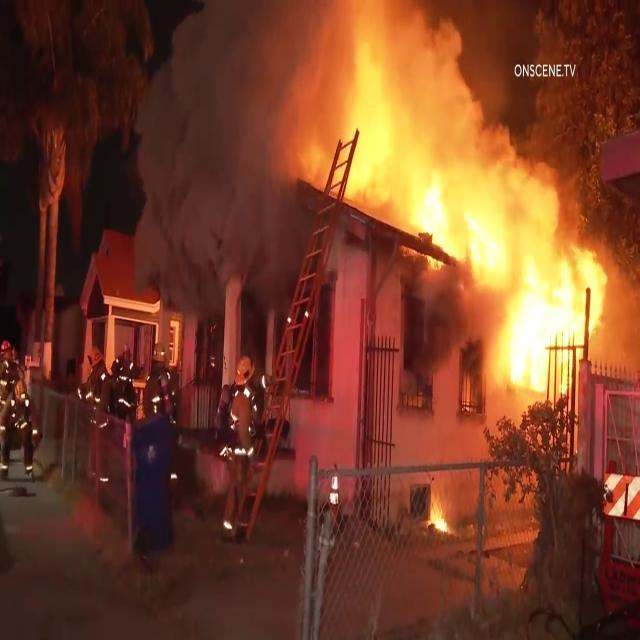Fire: (398, 134, 614, 410), (426, 488, 452, 540)
Smoke: (136, 0, 504, 290)
